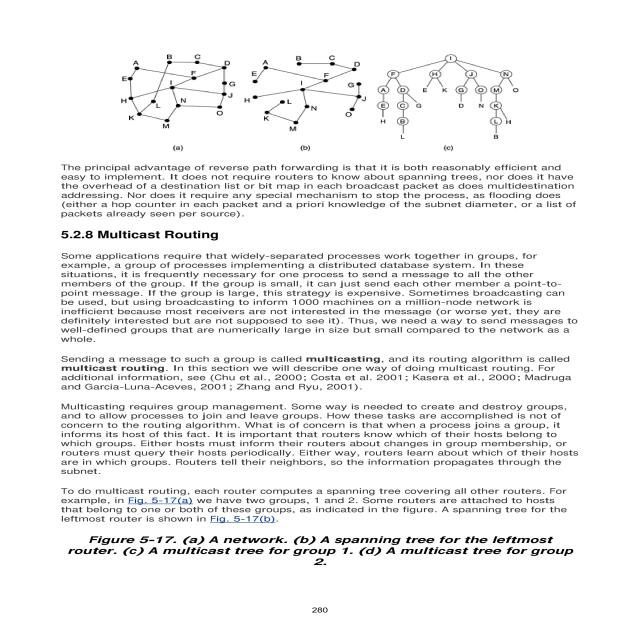diagram: (67, 44, 557, 159)
